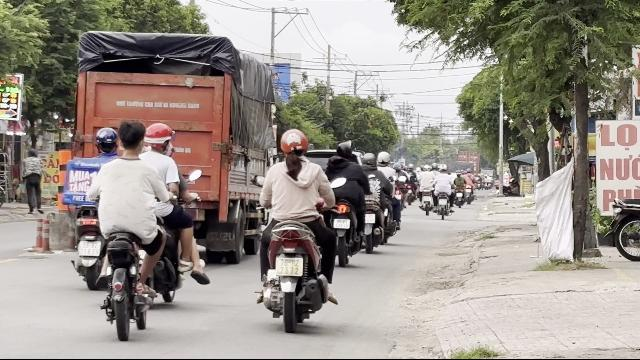helmet: (278, 128, 310, 164), (144, 121, 172, 153), (94, 127, 118, 154), (335, 141, 353, 159)
licenseplate: (274, 258, 302, 276), (78, 240, 100, 256), (333, 220, 349, 228)
motorcyclist: (76, 120, 210, 346), (250, 127, 340, 331), (324, 140, 368, 264)
nohelmet: (115, 119, 147, 157)
